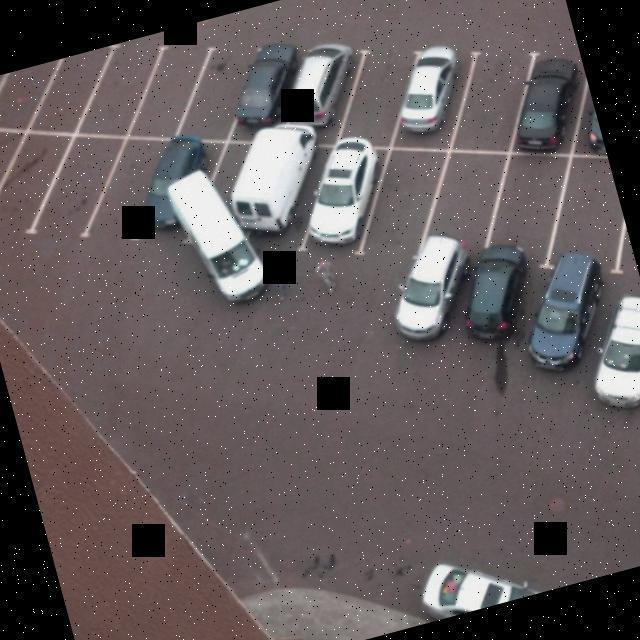car: (366, 38, 497, 154), (278, 136, 398, 256), (162, 126, 290, 238), (493, 38, 602, 160), (224, 136, 337, 249), (126, 128, 246, 234), (253, 41, 370, 139), (216, 41, 324, 130)
free: (17, 132, 149, 246), (427, 42, 552, 162), (316, 33, 442, 152), (342, 137, 464, 258), (471, 144, 590, 258), (66, 130, 190, 238), (406, 148, 524, 259), (526, 150, 632, 268), (58, 42, 180, 140), (166, 36, 280, 140), (114, 34, 225, 138), (12, 49, 124, 132), (0, 131, 91, 230), (0, 62, 60, 137), (0, 128, 40, 216)
